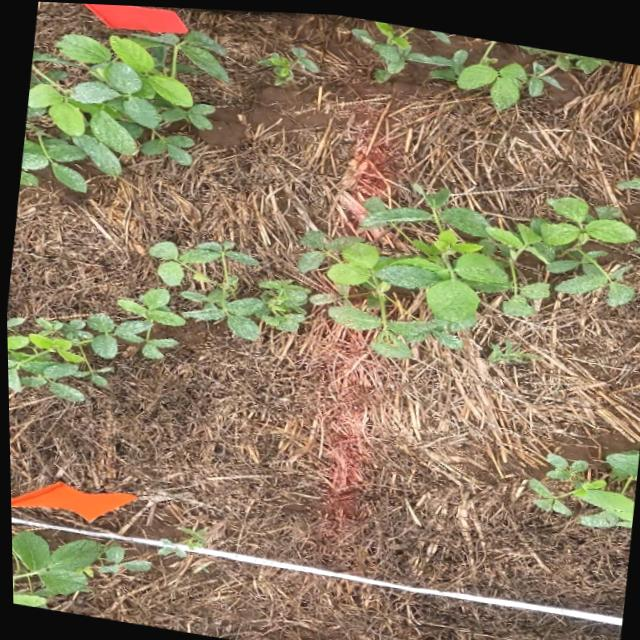caruru_weed: (484, 335, 537, 358)
soy_plant: (118, 181, 635, 356), (18, 30, 226, 190), (352, 17, 605, 105), (9, 530, 145, 608), (6, 318, 118, 400), (525, 449, 632, 520), (259, 44, 316, 81), (604, 446, 637, 484), (174, 524, 205, 545)
